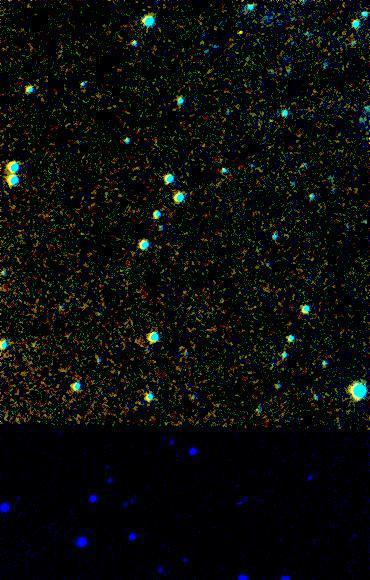star: (226, 16, 256, 46)
